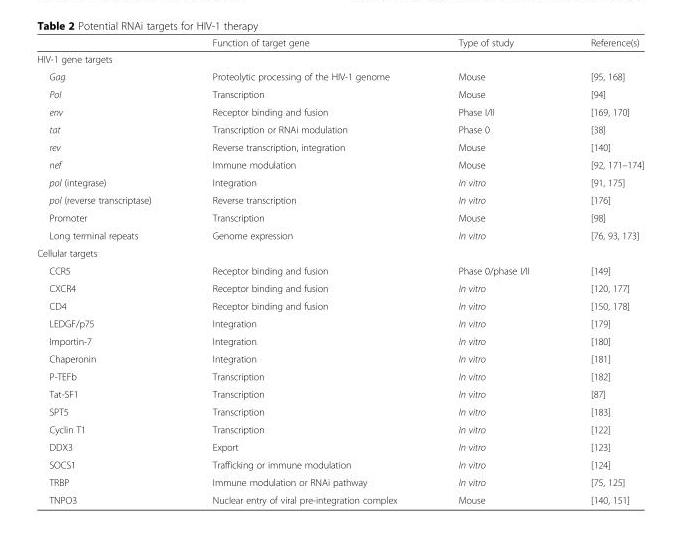table: (36, 36, 643, 505)
table column: (181, 36, 427, 505), (36, 36, 181, 505), (427, 36, 559, 505), (559, 36, 643, 505)
table column header: (36, 36, 643, 50)
table projected row header: (36, 243, 643, 261), (36, 50, 643, 67)
table row: (36, 67, 643, 85), (36, 102, 643, 120), (36, 120, 643, 138), (36, 155, 643, 173), (36, 190, 643, 208), (36, 208, 643, 226), (36, 243, 643, 261), (36, 261, 643, 279), (36, 296, 643, 314), (36, 314, 643, 332), (36, 349, 643, 367), (36, 384, 643, 402), (36, 402, 643, 420), (36, 437, 643, 455), (36, 455, 643, 473), (36, 50, 643, 67), (36, 85, 643, 102), (36, 138, 643, 155), (36, 173, 643, 190), (36, 226, 643, 243), (36, 279, 643, 296), (36, 332, 643, 349), (36, 367, 643, 384), (36, 420, 643, 437), (36, 473, 643, 490), (36, 490, 643, 505), (36, 36, 643, 50)
